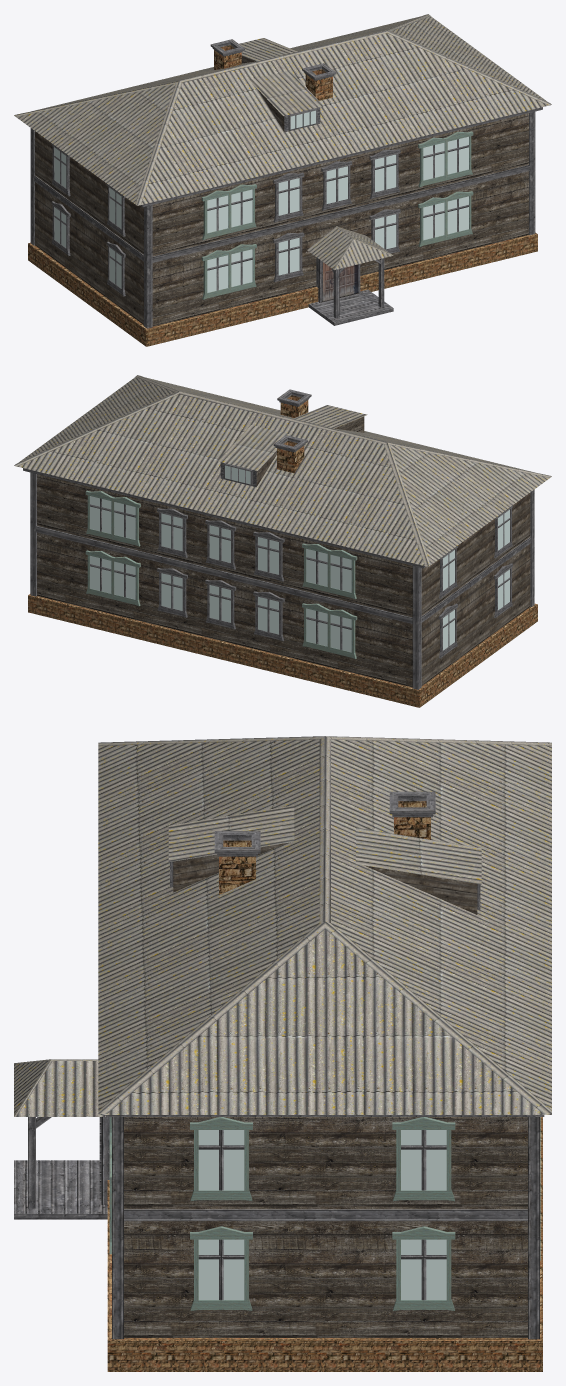
3 renders of one model, top to bottom at view 1: azimuth 30°, elevation 25°; view 2: azimuth 150°, elevation 25°; view 3: azimuth 270°, elevation 25°, orthographic. The views are drawn at different scales.
Visible parts, largest first — view 1: Тело дома; view 2: Тело дома; view 3: Тело дома.
Boxes of the visible parts, bbox=[...] form: Тело дома: bbox=[14, 14, 551, 346]; Тело дома: bbox=[14, 375, 551, 707]; Тело дома: bbox=[14, 736, 551, 1371].
Bounding box in the file's own units: 110 × 179 × 82.7.
Materials: 8 (6 with a texture image).
